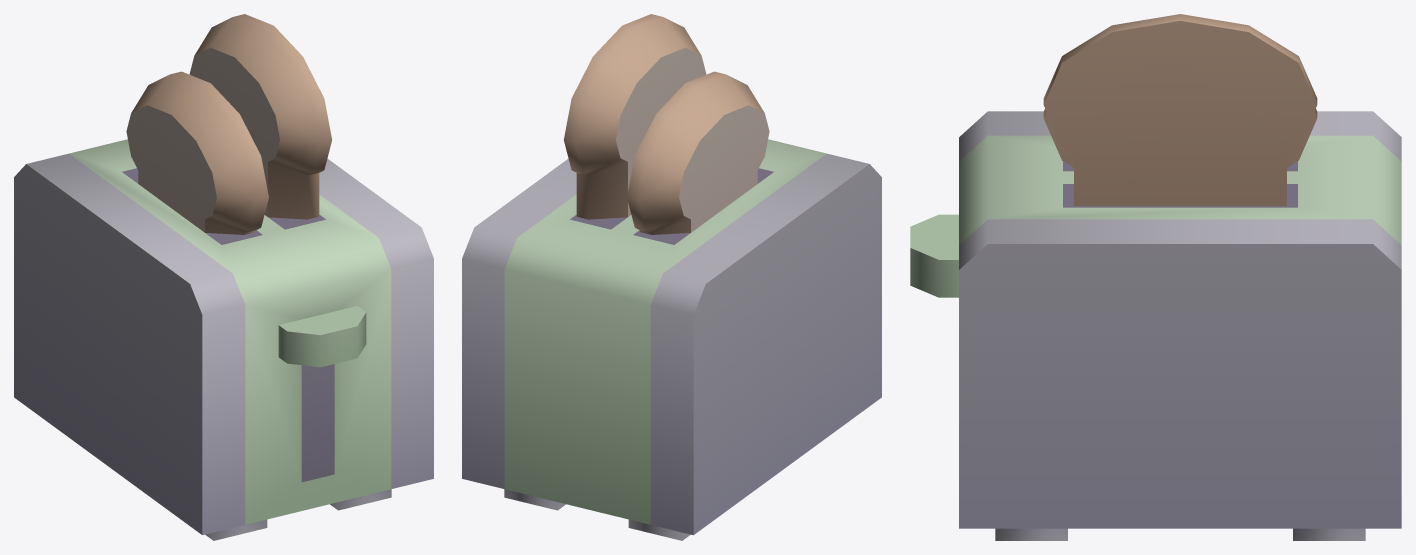
The model's file is toaster-side-bread.glb.
3 renders of one model, left to right at view 1: azimuth 30°, elevation 25°; view 2: azimuth 150°, elevation 25°; view 3: azimuth 270°, elevation 25°, orthographic. The views are drawn at different scales.
Visible parts, largest first — view 1: toaster-side-bread; view 2: toaster-side-bread; view 3: toaster-side-bread.
Part boxes in pixels (x1,y1,x2,y2): toaster-side-bread: (14, 14, 433, 540); toaster-side-bread: (462, 14, 881, 540); toaster-side-bread: (910, 14, 1401, 540).
Bounding box in the file's own units: 0.164 × 0.2867 × 0.2567.
